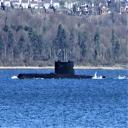submarine: (20, 49, 107, 80)
